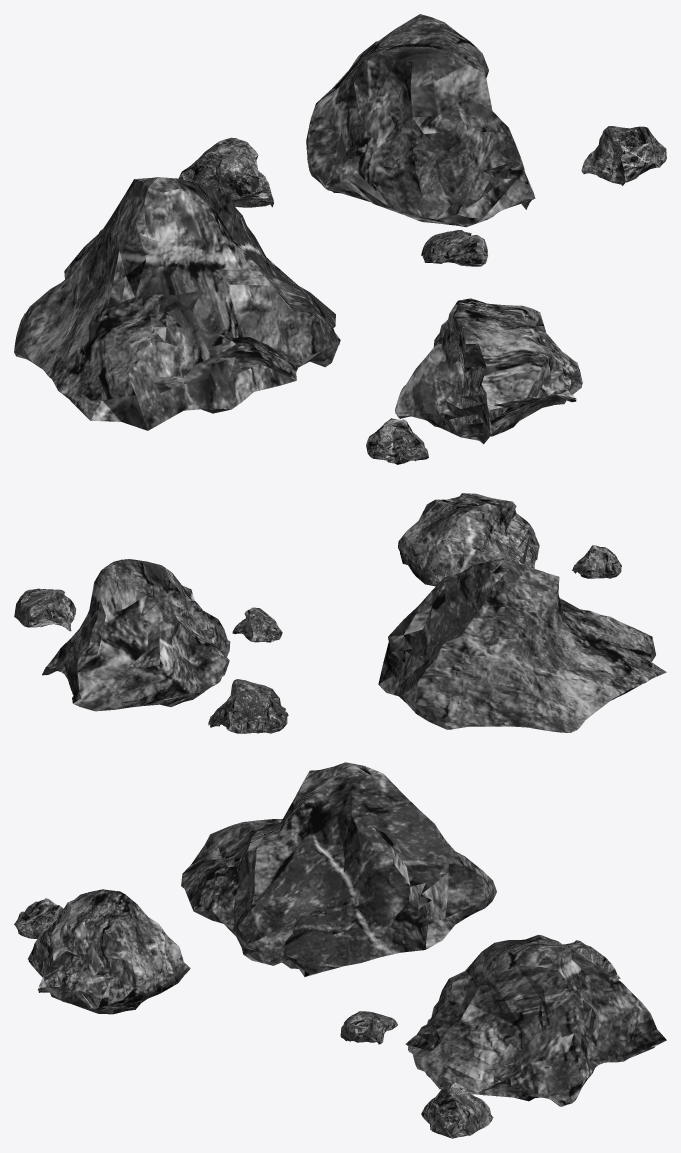
Rendered from rocks.fbx.
3 views of the same model, one above another, from view 1: azimuth 30°, elevation 25°; view 2: azimuth 150°, elevation 25°; view 3: azimuth 270°, elevation 25° (orthographic). The views are drawn at different scales.
Visible parts, largest first — view 1: Икосфера, Икосфера.001, Икосфера.002, Икосфера.003, Икосфера.005, Икосфера.004, Икосфера.006; view 2: Икосфера, Икосфера.001, Икосфера.002, Икосфера.003, Икосфера.005, Икосфера.004, Икосфера.006; view 3: Икосфера, Икосфера.001, Икосфера.002, Икосфера.005, Икосфера.006, Икосфера.004, Икосфера.003.
Part boxes in pixels (<box>): Икосфера: <box>14,177,340,430</box>; Икосфера.001: <box>306,14,535,227</box>; Икосфера.002: <box>395,298,582,444</box>; Икосфера.003: <box>178,137,273,207</box>; Икосфера.005: <box>581,126,666,185</box>; Икосфера.004: <box>366,418,428,464</box>; Икосфера.006: <box>421,230,487,266</box>; Икосфера: <box>378,558,666,732</box>; Икосфера.001: <box>42,559,230,711</box>; Икосфера.002: <box>398,493,539,586</box>; Икосфера.003: <box>208,679,288,733</box>; Икосфера.005: <box>14,588,76,631</box>; Икосфера.004: <box>572,545,621,578</box>; Икосфера.006: <box>232,607,282,642</box>; Икосфера: <box>181,762,496,976</box>; Икосфера.001: <box>405,934,666,1106</box>; Икосфера.002: <box>28,889,190,1014</box>; Икосфера.005: <box>421,1082,493,1138</box>; Икосфера.006: <box>340,1011,397,1044</box>; Икосфера.004: <box>14,898,63,938</box>; Икосфера.003: <box>563,940,620,979</box>.
Size of the model in its own units: 445 by 109 by 414.
